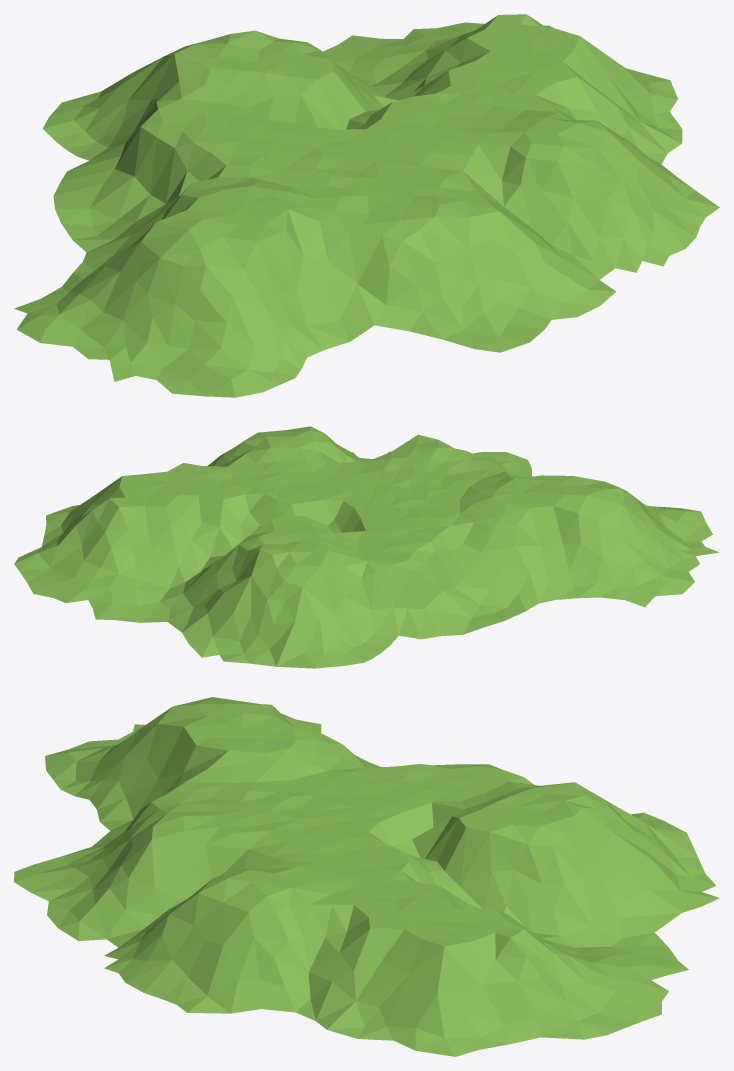
File: MT_Mountain_L_b_11_LOD.fbx
3 renders of one model, top to bottom at view 1: azimuth 30°, elevation 25°; view 2: azimuth 150°, elevation 25°; view 3: azimuth 270°, elevation 25°, orthographic. The views are drawn at different scales.
Visible parts, largest first — view 1: MT_Mountain_L_b_11_LOD0; view 2: MT_Mountain_L_b_11_LOD0; view 3: MT_Mountain_L_b_11_LOD0.
Boxes of the visible parts, x1=… form: MT_Mountain_L_b_11_LOD0: x1=14, y1=14, x2=719, y2=397; MT_Mountain_L_b_11_LOD0: x1=14, y1=426, x2=719, y2=668; MT_Mountain_L_b_11_LOD0: x1=14, y1=697, x2=719, y2=1056.
Size of what is drawn, in the model's own units: 8711 by 983 by 7610.
